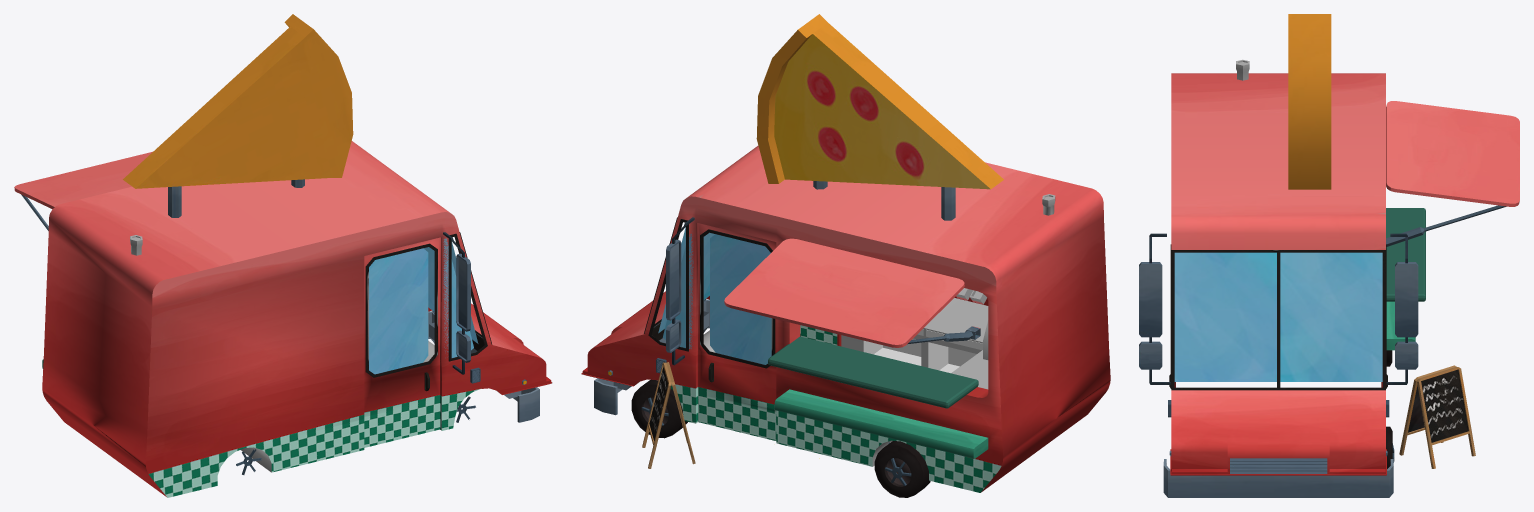
Rendered from FoodTruckBase.fbx.
3 renders of one model, left to right at view 1: azimuth 30°, elevation 25°; view 2: azimuth 150°, elevation 25°; view 3: azimuth 270°, elevation 25°, orthographic. The views are drawn at different scales.
Visible parts, largest first — view 1: Cylinder.008, Cylinder.013, Cylinder.048, Cylinder.043, Cylinder.052, Cylinder.037, Cylinder.021, Cylinder.051; view 2: Cylinder.008, Cylinder.013, Cylinder.043, Cube, Cylinder.047, Cylinder.009, Cylinder.059, Cylinder.015, Cylinder.062, Cube.002, Cylinder.032, Cylinder.021 (+3 smaller); view 3: Cylinder.008, Cylinder.049, Cylinder.051, Cylinder.043, Cylinder.013, Cylinder.021, Cylinder.015, Cube, Cylinder.037, Cylinder.032, Cylinder.038, Cylinder.033 (+1 smaller).
Part boxes in pixels (left/top/right/bottom): Cylinder.008: left=42, top=141, right=552, bottom=497; Cylinder.013: left=123, top=14, right=353, bottom=188; Cylinder.048: left=369, top=248, right=428, bottom=374; Cylinder.043: left=14, top=151, right=152, bottom=209; Cylinder.052: left=443, top=238, right=473, bottom=357; Cylinder.037: left=456, top=253, right=470, bottom=331; Cylinder.021: left=428, top=311, right=539, bottom=422; Cylinder.051: left=423, top=241, right=478, bottom=343; Cylinder.008: left=581, top=145, right=1110, bottom=492; Cylinder.013: left=756, top=14, right=1003, bottom=189; Cylinder.043: left=724, top=238, right=964, bottom=347; Cube: left=768, top=336, right=978, bottom=408; Cylinder.047: left=710, top=234, right=771, bottom=364; Cylinder.009: left=841, top=298, right=988, bottom=389; Cylinder.059: left=874, top=441, right=930, bottom=497; Cylinder.015: left=642, top=362, right=695, bottom=468; Cylinder.062: left=631, top=379, right=687, bottom=438; Cube.002: left=921, top=329, right=982, bottom=373; Cylinder.032: left=666, top=239, right=681, bottom=320; Cylinder.021: left=594, top=299, right=709, bottom=415; Cylinder.008: left=1170, top=73, right=1415, bottom=475; Cylinder.049: left=1280, top=252, right=1382, bottom=381; Cylinder.051: left=1174, top=252, right=1276, bottom=381; Cylinder.043: left=1386, top=101, right=1519, bottom=206; Cylinder.013: left=1288, top=14, right=1331, bottom=189; Cylinder.021: left=1163, top=459, right=1393, bottom=497; Cylinder.015: left=1399, top=365, right=1475, bottom=468; Cube: left=1386, top=208, right=1425, bottom=301; Cylinder.037: left=1139, top=262, right=1162, bottom=337; Cylinder.032: left=1395, top=262, right=1418, bottom=337; Cylinder.038: left=1139, top=341, right=1162, bottom=369; Cylinder.033: left=1395, top=341, right=1418, bottom=369.
Size of the model in its own units: 693 by 650 by 543.
